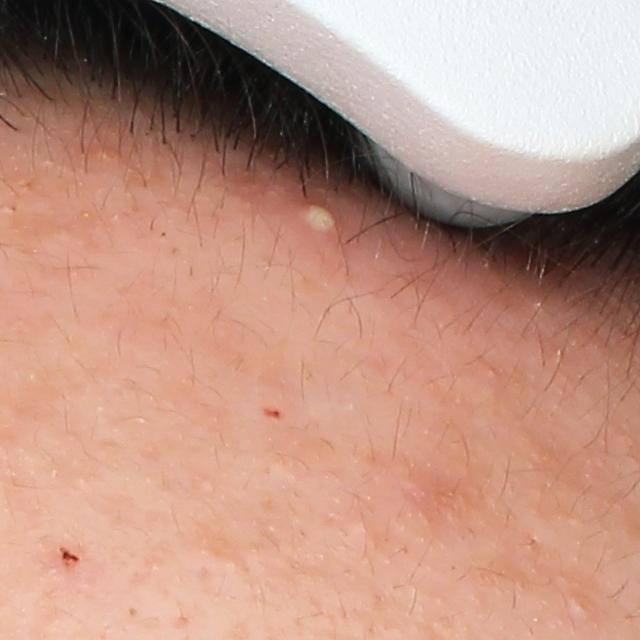comedo: (221, 556, 242, 575)
pustule: (296, 198, 348, 243)
